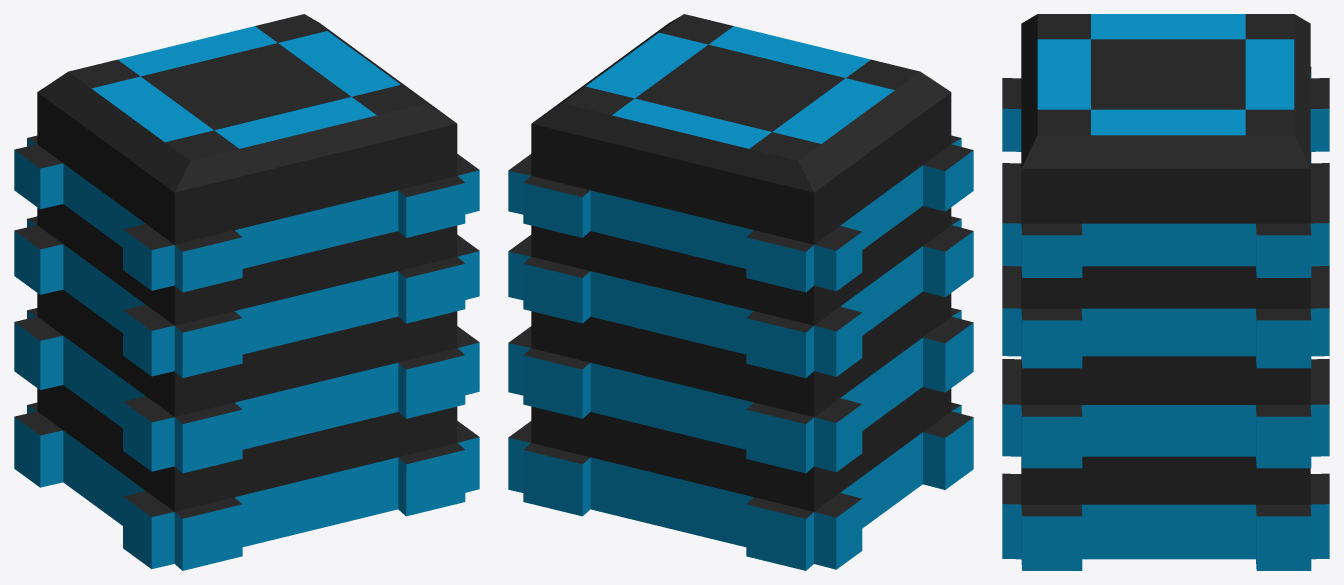
The model's file is SmBuildNeon01.fbx.
The picture shows the model from 3 angles, left to right: view 1: azimuth 30°, elevation 25°; view 2: azimuth 150°, elevation 25°; view 3: azimuth 270°, elevation 25°; orthographic projection. The views are drawn at different scales.
Parts seen in each view (by area): view 1: SmBuildNeon01; view 2: SmBuildNeon01; view 3: SmBuildNeon01.
Part boxes in pixels (x1,y1,x2,y2): SmBuildNeon01: (14,14,479,570); SmBuildNeon01: (508,14,973,570); SmBuildNeon01: (1002,14,1329,570).
Size of the model in its own units: 1.04 by 1.18 by 0.8504.
